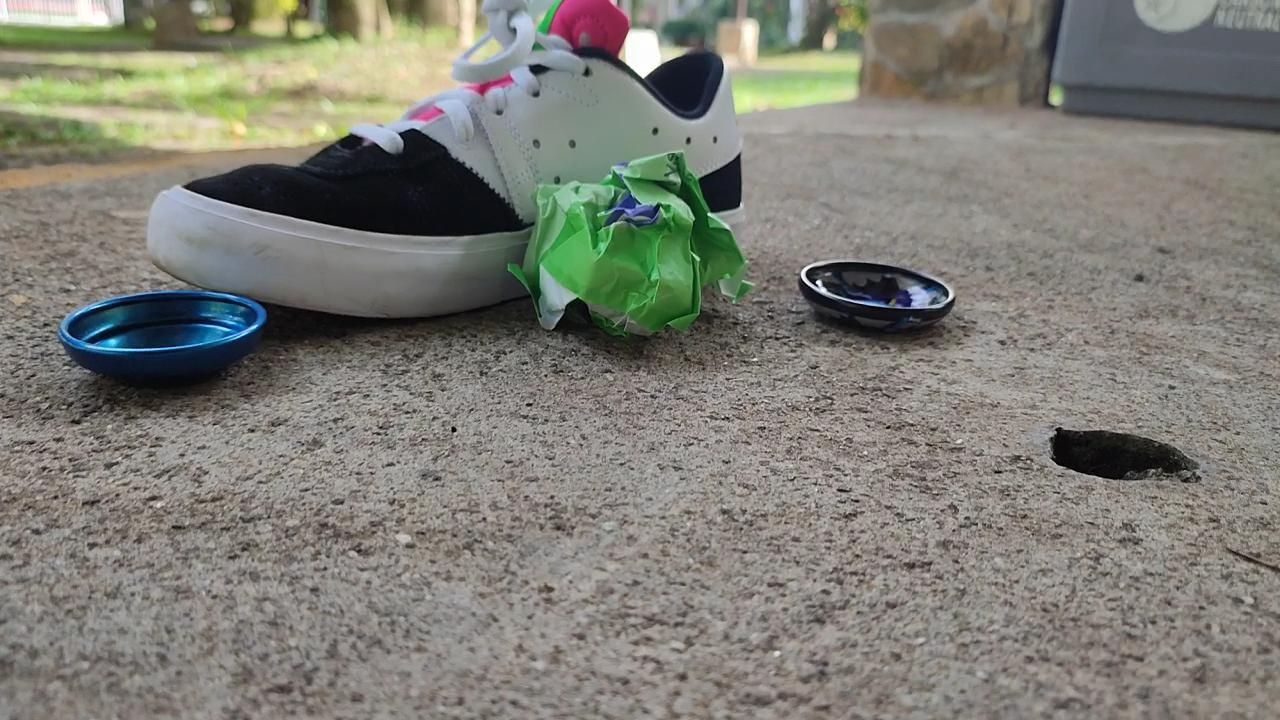Paper: (499, 130, 761, 350)
